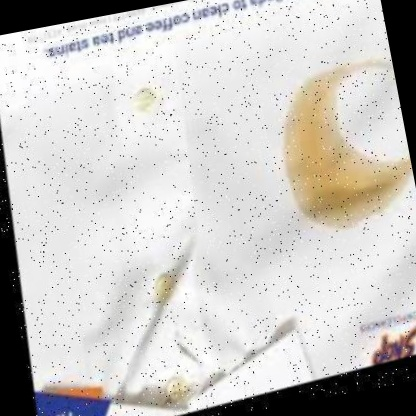coffee: (271, 88, 357, 238), (348, 162, 405, 219)
